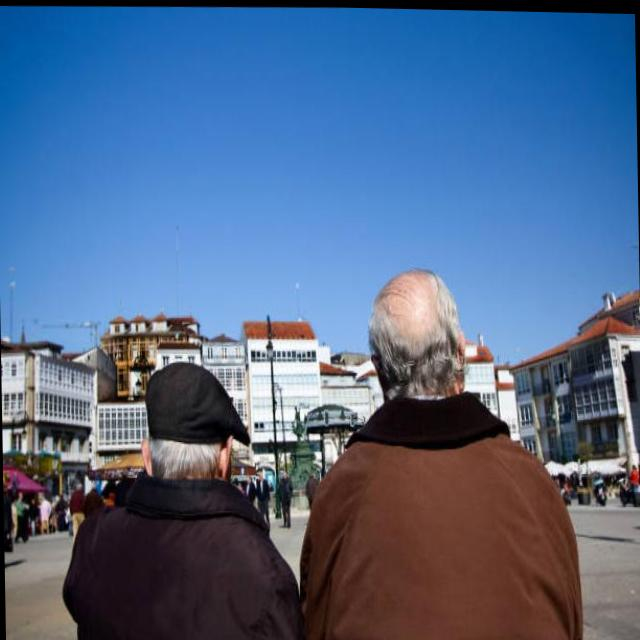no helmet: (135, 347, 259, 504)
